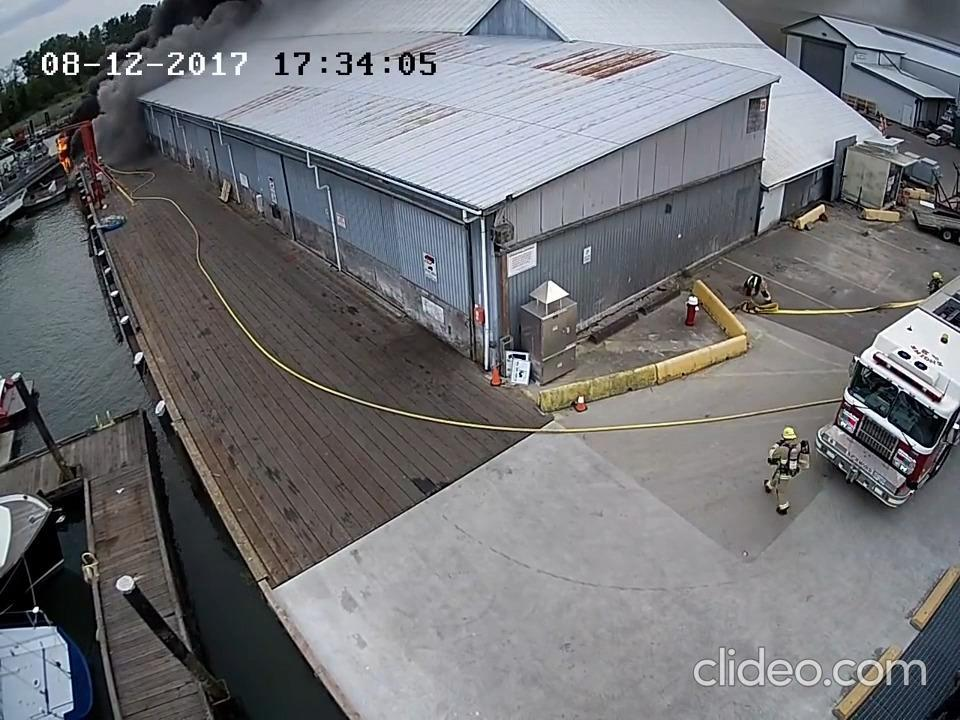fire: (53, 132, 74, 175)
